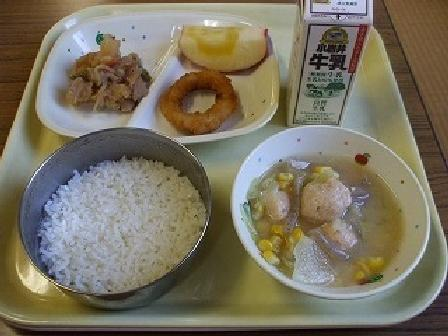Apple: (172, 10, 278, 82)
Milk: (278, 2, 387, 136)
Rice: (36, 143, 199, 293)
Soups: (232, 125, 434, 299)
cooked food meat with vegetables: (66, 37, 160, 117)
onion rings: (161, 70, 242, 140)
